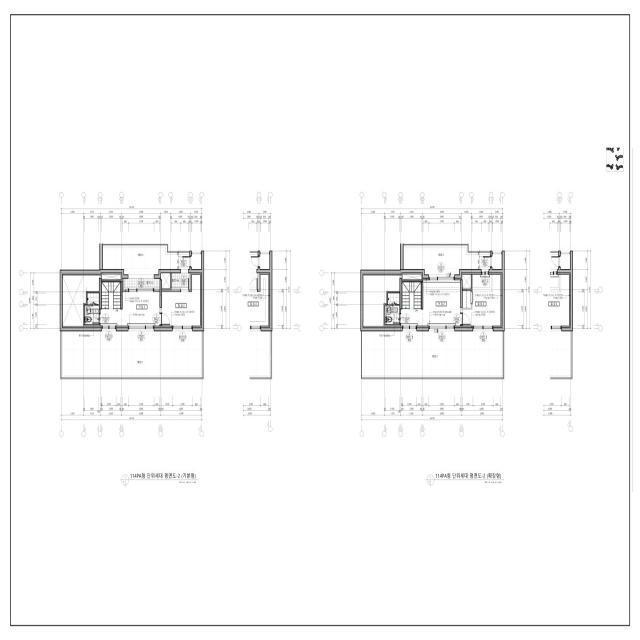space_balconi: (125, 278, 160, 288), (171, 273, 189, 288)
space_bedroom: (162, 273, 201, 326), (462, 275, 502, 326)
space_living_room: (401, 280, 461, 326), (100, 292, 160, 326)
space_other: (362, 331, 502, 376), (62, 331, 201, 376), (103, 247, 189, 275), (403, 247, 490, 274), (363, 275, 400, 327), (63, 275, 99, 327), (101, 282, 121, 309), (402, 282, 421, 309), (462, 291, 471, 308), (492, 254, 502, 269), (191, 254, 201, 269), (101, 273, 122, 280), (402, 273, 422, 280), (161, 273, 170, 288), (463, 273, 471, 289)
space_toilet: (385, 293, 400, 324), (85, 293, 99, 324)
